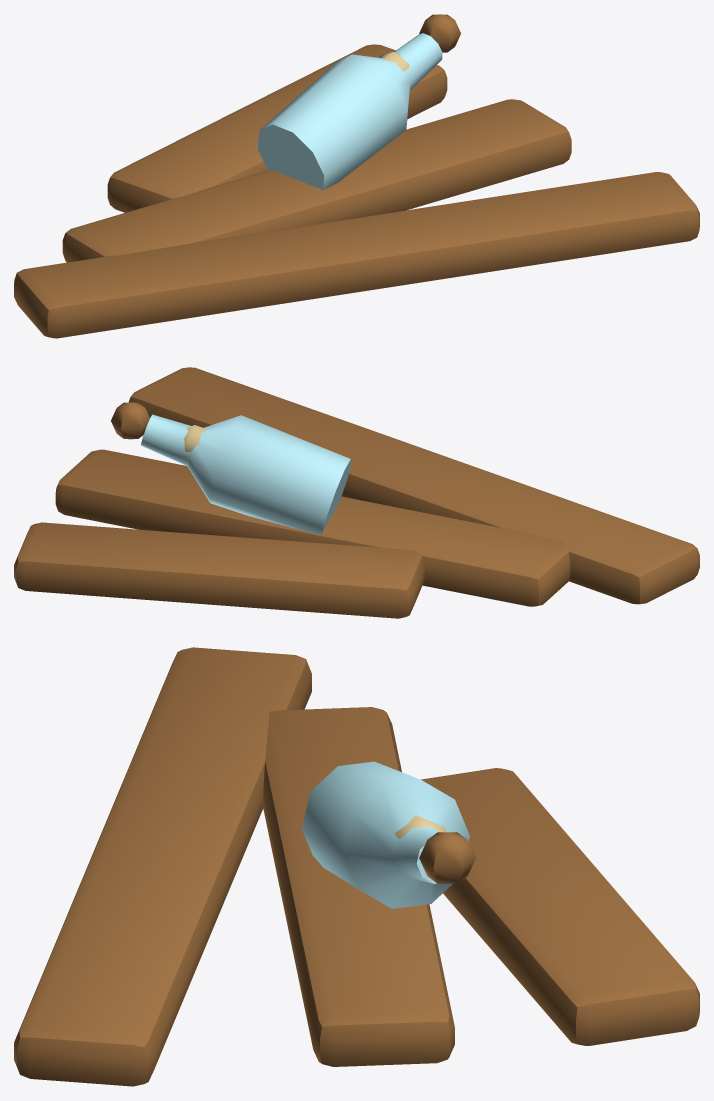
File: W2_Bottle.fbx
The picture shows the model from 3 angles, top to bottom: view 1: azimuth 30°, elevation 25°; view 2: azimuth 150°, elevation 25°; view 3: azimuth 270°, elevation 25°; orthographic projection. The views are drawn at different scales.
Visible parts, largest first — view 1: W2_Bottle; view 2: W2_Bottle; view 3: W2_Bottle.
Boxes of the visible parts, bbox=[...] form: W2_Bottle: bbox=[14, 14, 699, 338]; W2_Bottle: bbox=[14, 367, 699, 618]; W2_Bottle: bbox=[14, 647, 699, 1086].
Bounding box in the file's own units: 2.01 × 0.43 × 1.45.
